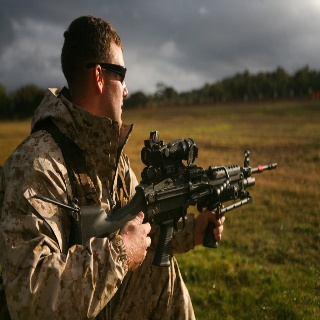rifle: (69, 126, 280, 270)
